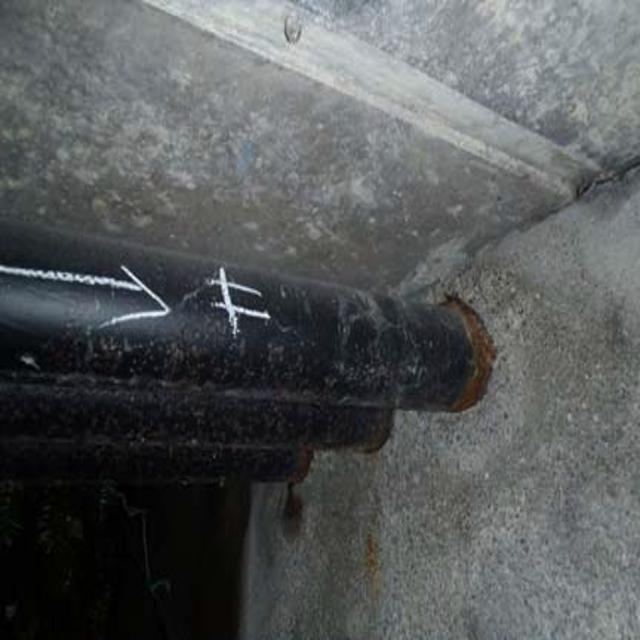corrosion: (433, 283, 517, 440)
